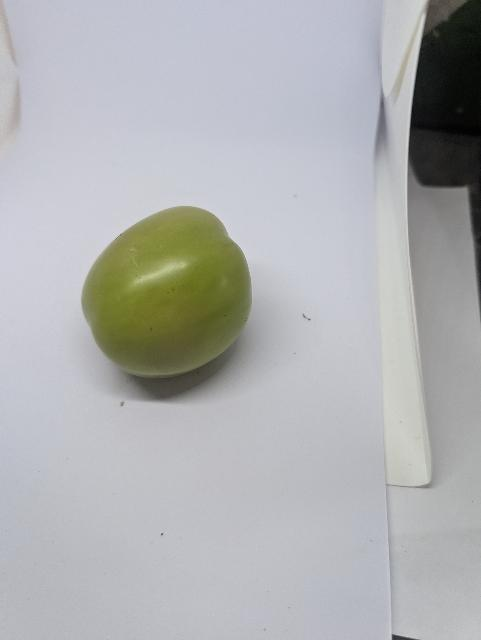green: (70, 180, 264, 413)
